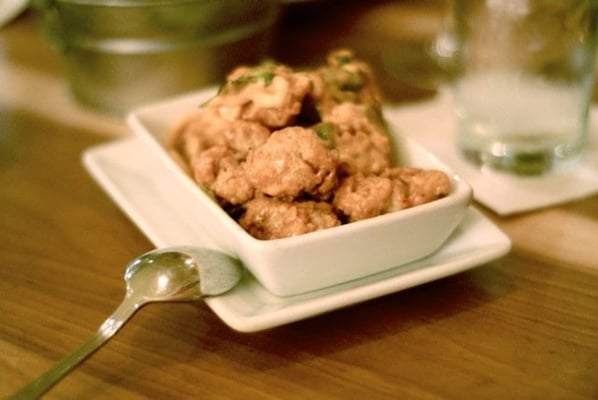pizza: (35, 2, 289, 116), (450, 1, 598, 184)
salad: (10, 246, 245, 397)
sushi: (106, 51, 476, 299)
